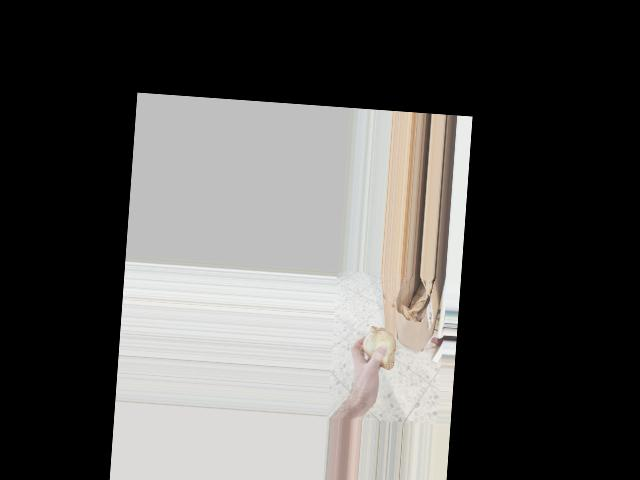onion: (357, 324, 399, 371)
